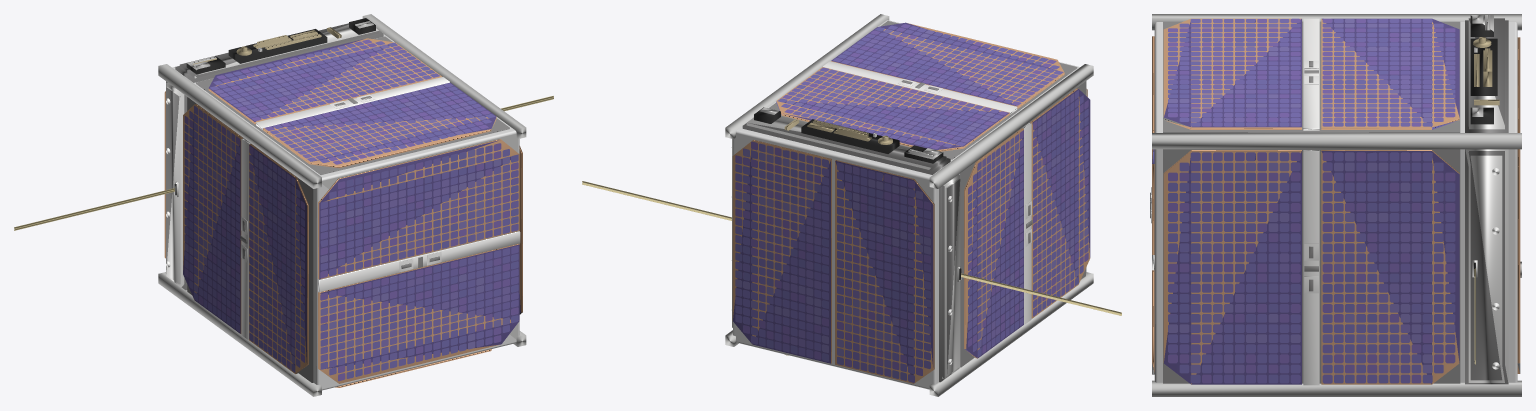
Rendered from ok-genCubeSat.glb.
3 views of the same model, side by side, from view 1: azimuth 30°, elevation 25°; view 2: azimuth 150°, elevation 25°; view 3: azimuth 270°, elevation 25° (orthographic). The views are drawn at different scales.
Visible parts, largest first — view 1: imagetostl_mesh0; view 2: imagetostl_mesh0; view 3: imagetostl_mesh0.
Boxes of the visible parts, box(x1,y1,x2,y2) form: imagetostl_mesh0: box(14, 14, 553, 396); imagetostl_mesh0: box(582, 14, 1121, 396); imagetostl_mesh0: box(1150, 14, 1521, 396).
Size of the model in its own units: 5.19 by 2.2 by 2.6.
